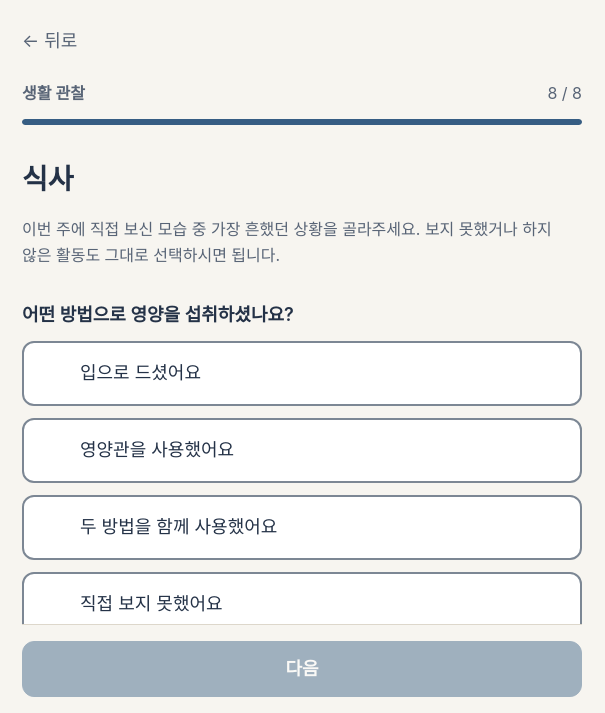
Scenario: 온보딩은 식사 질문의 실제 답변을 버전과 함께 저장한다
The image size is (605, 713).
Click the button "영양관을 사용했어요" at {"x": 157, "y": 450}, box top-left (22, 418), bottom-right (582, 483)
(page scrolled)
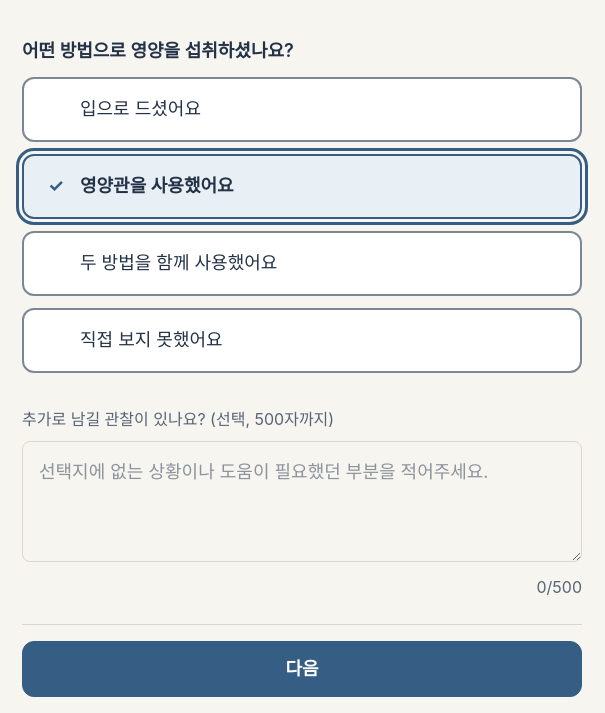
Type "저녁에 보호자가 도왔어요." into the text box labelled "추가로 남길 관찰이 있나요? (선택, 500자까지) 0/500" at {"x": 302, "y": 502}, box top-left (22, 441), bottom-right (582, 562)
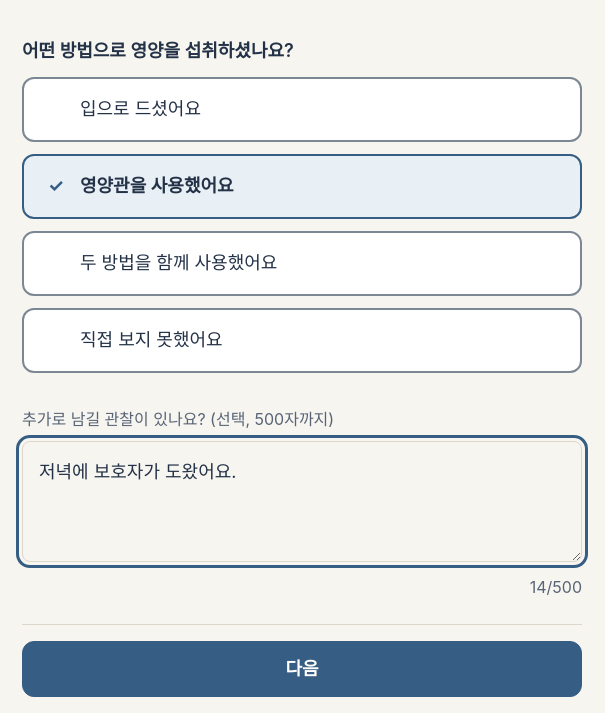
Click the button "다음" at {"x": 302, "y": 669}, box top-left (22, 641), bottom-right (582, 697)
(page scrolled)
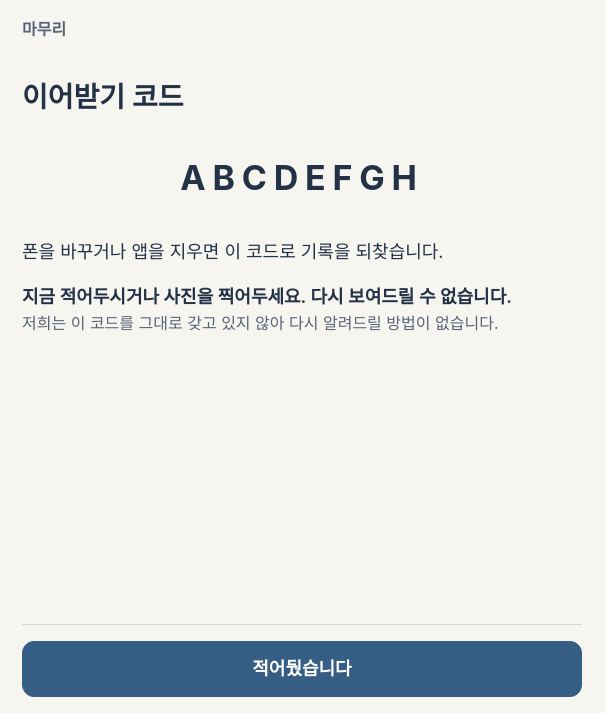
Expected: the text "ABCDEFGH" is shown, top-left (180, 157), bottom-right (424, 198)
